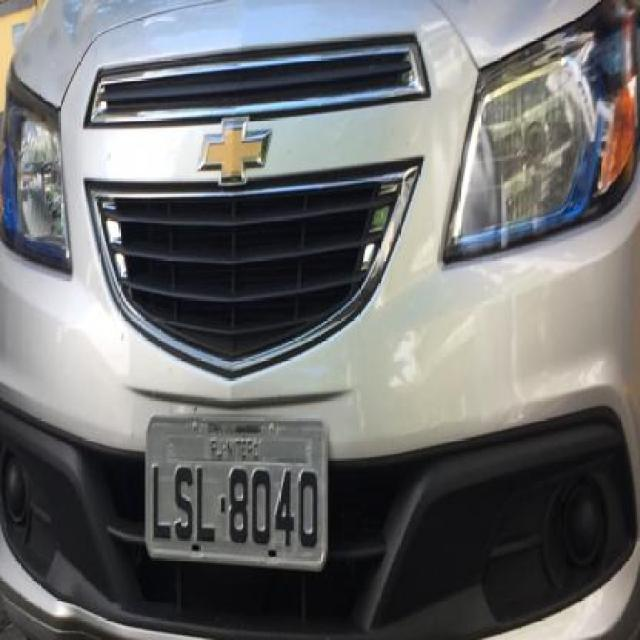old_plate: (140, 409, 340, 576)
